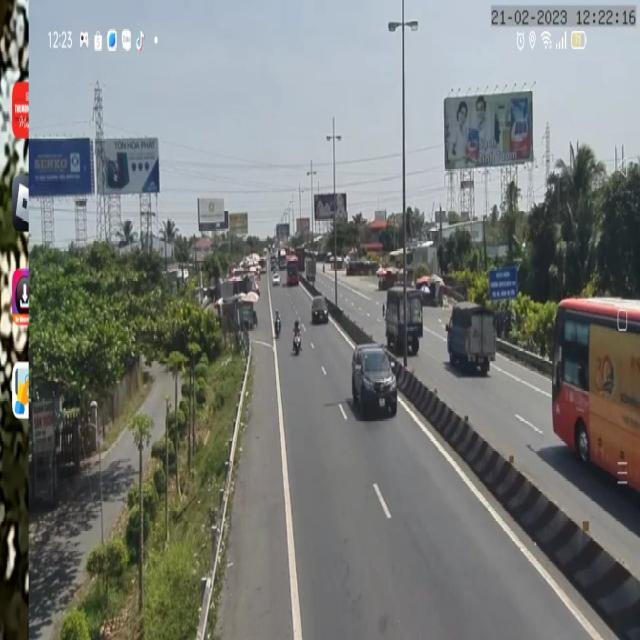bus: (551, 292, 640, 514), (285, 254, 299, 288)
car: (350, 346, 399, 420), (311, 292, 329, 327)
motorbike: (292, 315, 302, 357), (274, 309, 282, 336)
truck: (443, 300, 500, 379), (384, 283, 423, 353)
